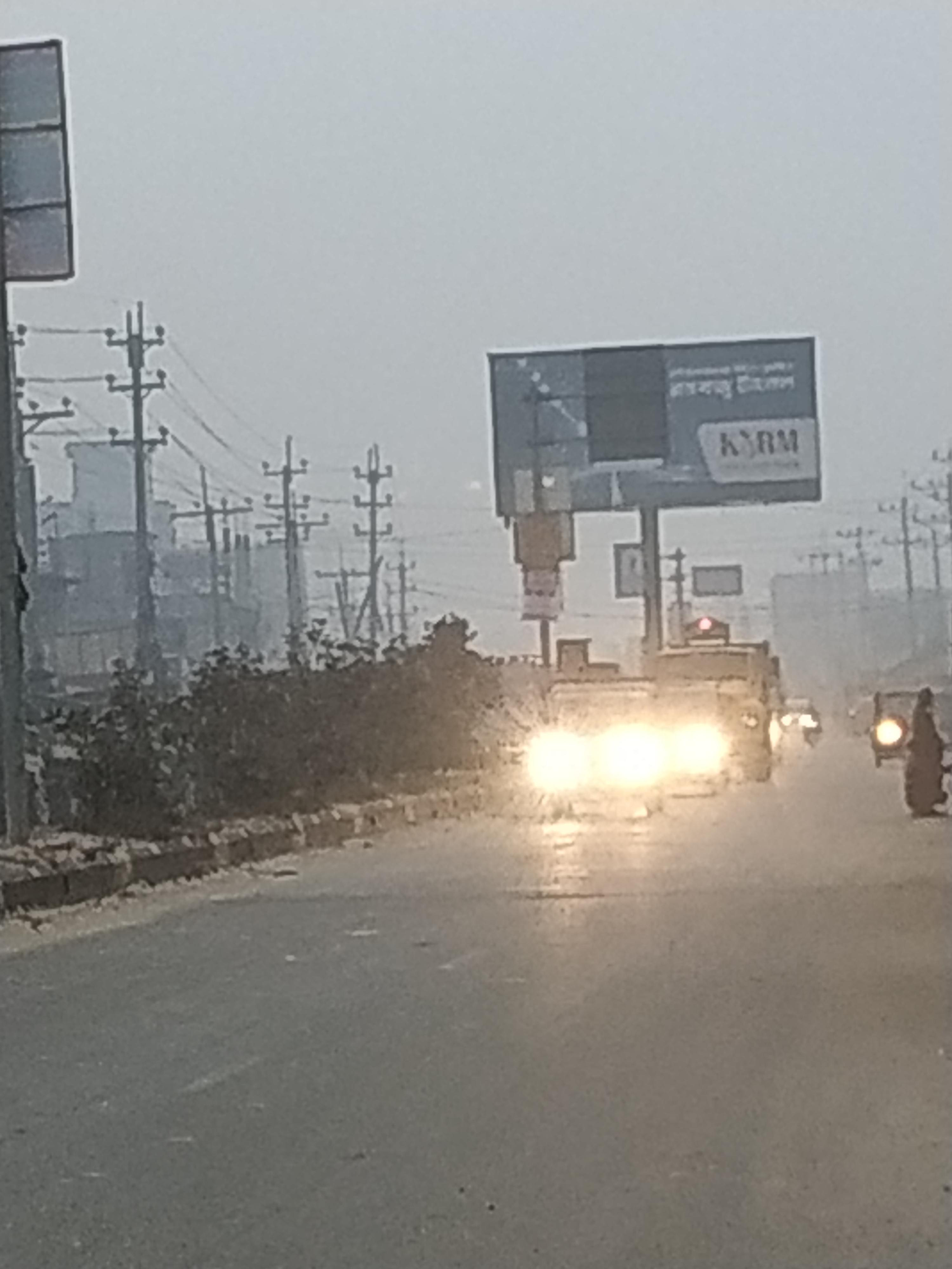Bike: (801, 704, 834, 759)
Truck: (651, 609, 793, 812)
